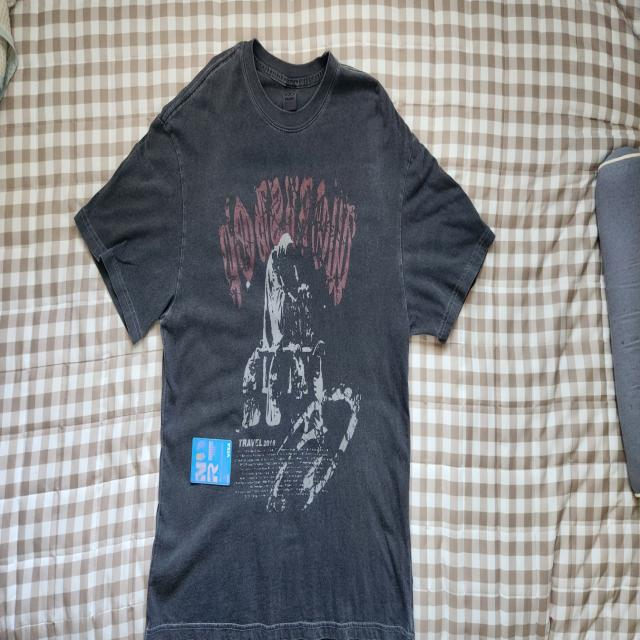card: (190, 437, 232, 486)
